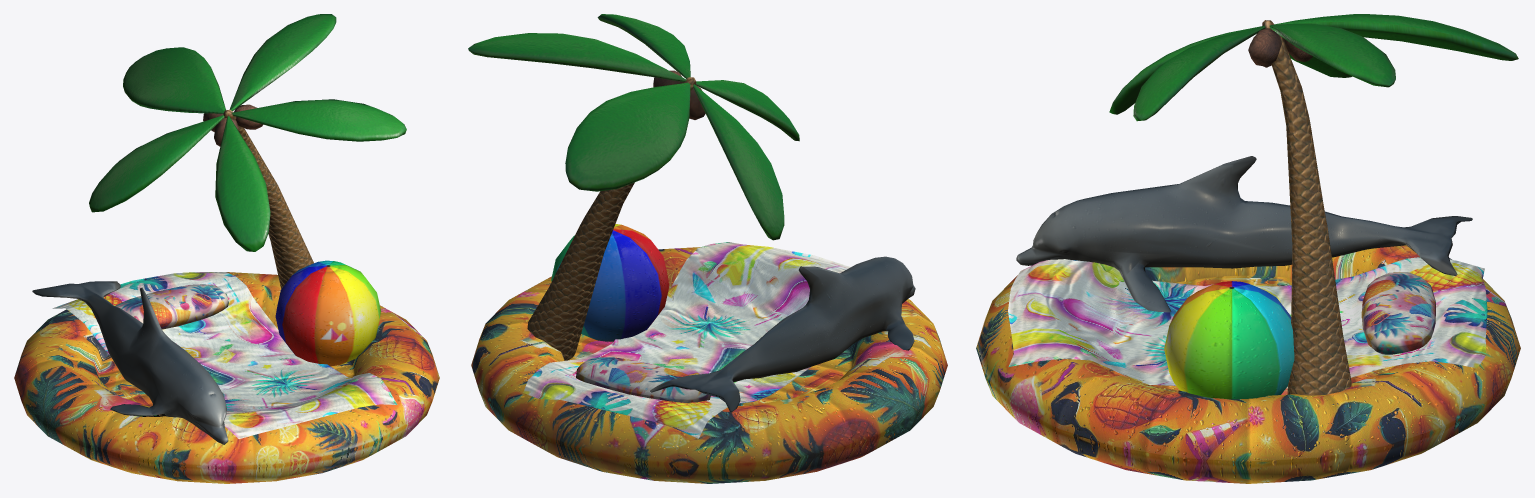
Rendered from palmisland.gltf.
The picture shows the model from 3 angles, left to right: view 1: azimuth 30°, elevation 25°; view 2: azimuth 150°, elevation 25°; view 3: azimuth 270°, elevation 25°; orthographic projection. The views are drawn at different scales.
Parts seen in each view (by area): view 1: palmisland; view 2: palmisland; view 3: palmisland.
Boxes of the visible parts, <box> form: palmisland: <box>14,14,439,483</box>; palmisland: <box>468,14,947,483</box>; palmisland: <box>976,14,1520,483</box>.
Bounding box in the file's own units: 128 × 106 × 128.
2 materials, 2 textured.
